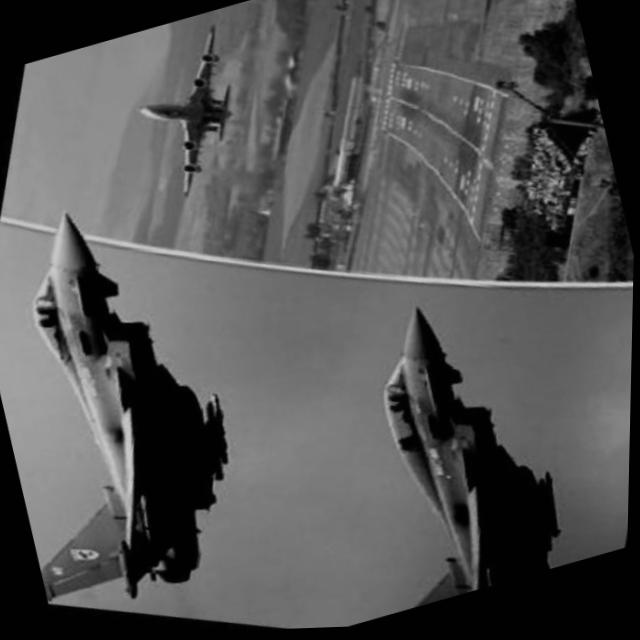aeroplane: (78, 0, 308, 237)
